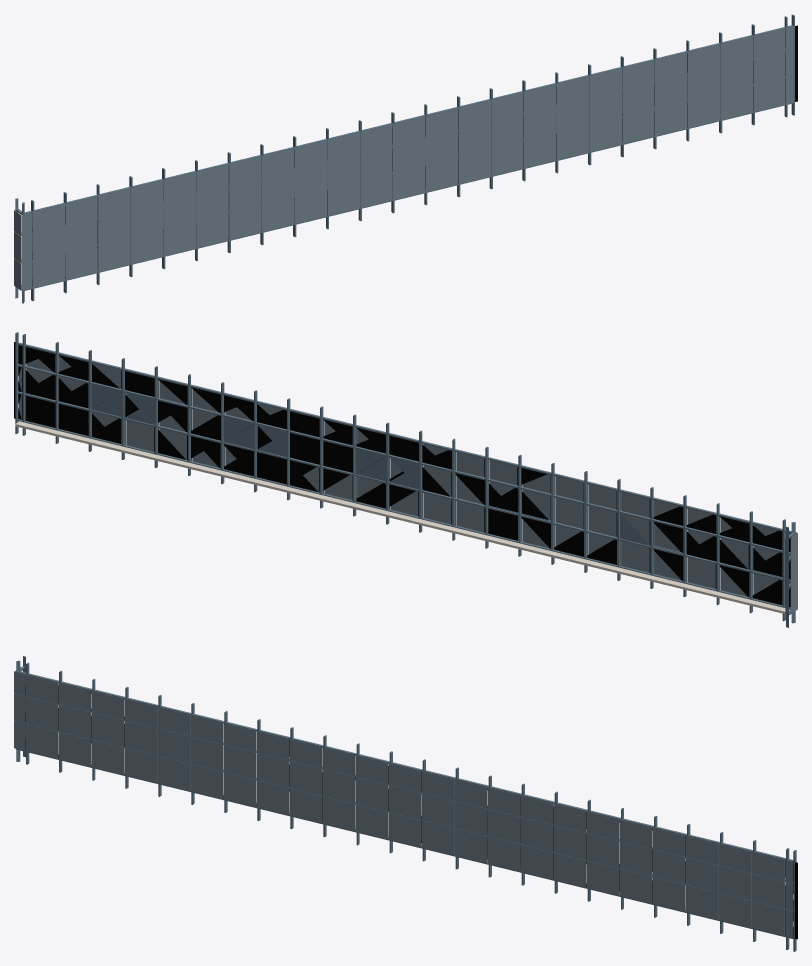
Rendered from backWall_20230504_1541.glb.
3 renders of one model, top to bottom at view 1: azimuth 30°, elevation 25°; view 2: azimuth 150°, elevation 25°; view 3: azimuth 330°, elevation 25°, orthographic.
Parts seen in each view (by area): view 1: Rectangle034, Rectangle035, Rectangle039; view 2: Rectangle039, Rectangle035, Rectangle034, Rectangle077, Rectangle197, Rectangle021, Rectangle218; view 3: Rectangle034, Rectangle035, Rectangle039.
Part boxes in pixels (bbox=[...]): Rectangle034: bbox=[14, 27, 793, 290]; Rectangle035: bbox=[15, 14, 794, 303]; Rectangle039: bbox=[32, 25, 797, 286]; Rectangle039: bbox=[14, 342, 791, 613]; Rectangle035: bbox=[15, 332, 796, 627]; Rectangle034: bbox=[19, 354, 797, 614]; Rectangle077: bbox=[15, 421, 218, 474]; Rectangle197: bbox=[413, 518, 614, 571]; Rectangle021: bbox=[215, 470, 416, 523]; Rectangle218: bbox=[611, 566, 789, 614]; Rectangle034: bbox=[14, 667, 792, 937]; Rectangle035: bbox=[15, 656, 796, 951]; Rectangle039: bbox=[21, 667, 797, 939].
Size of the model in its own units: 3.54 by 0.4339 by 0.0609.
